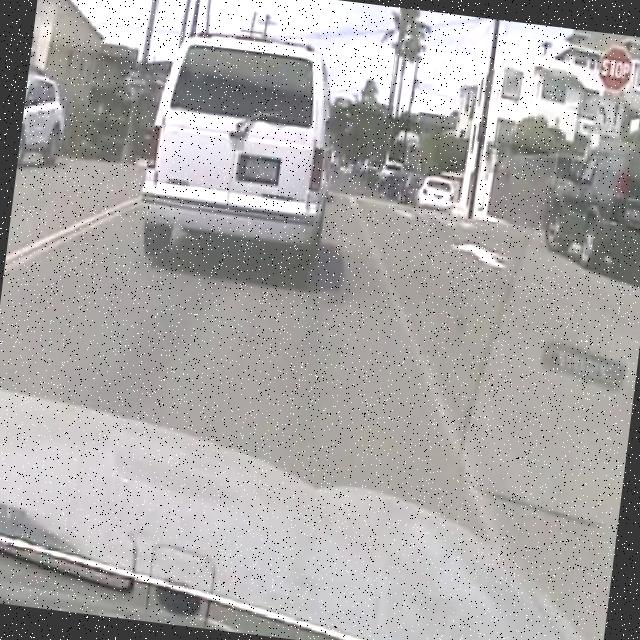Stop: (594, 41, 638, 96)
